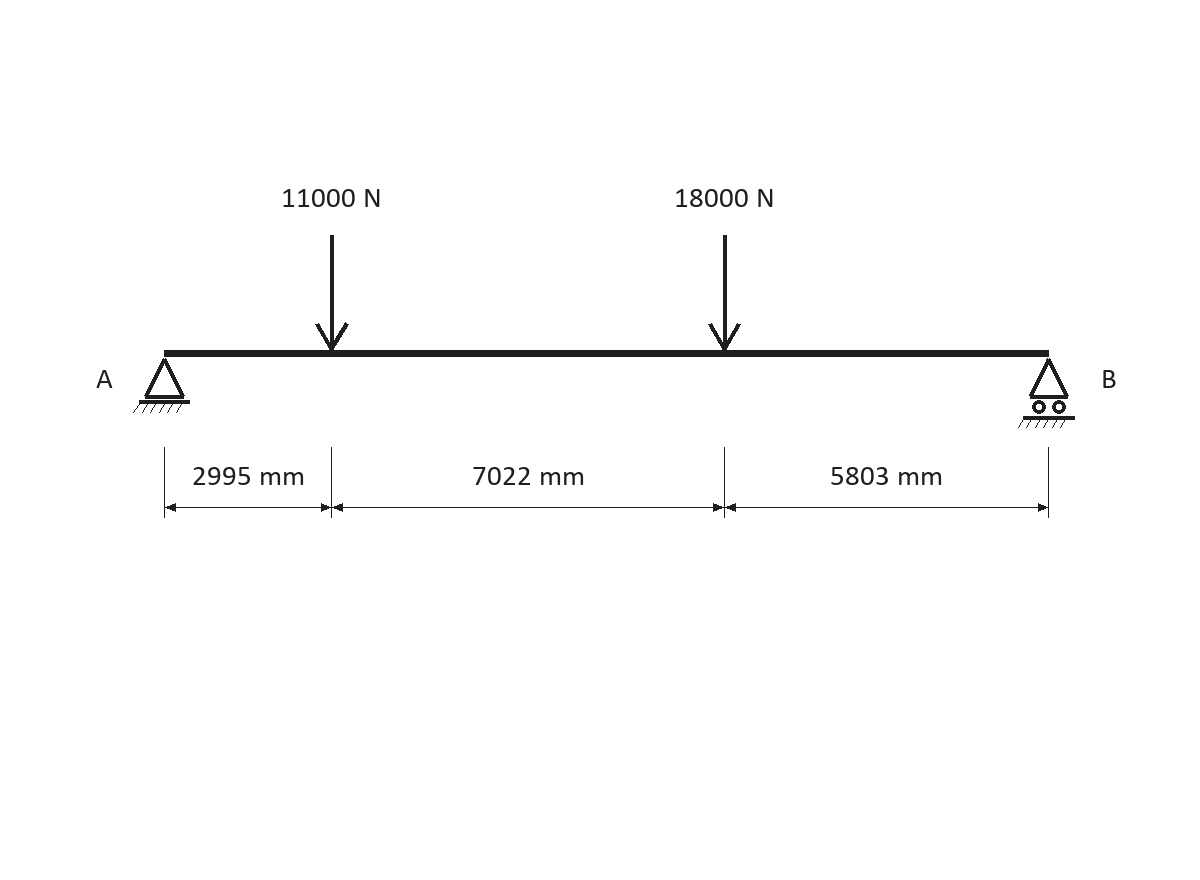pin_support: (133, 358, 190, 413)
point_load: (315, 235, 349, 351), (708, 235, 741, 351)
roller_support: (1018, 358, 1075, 428)
